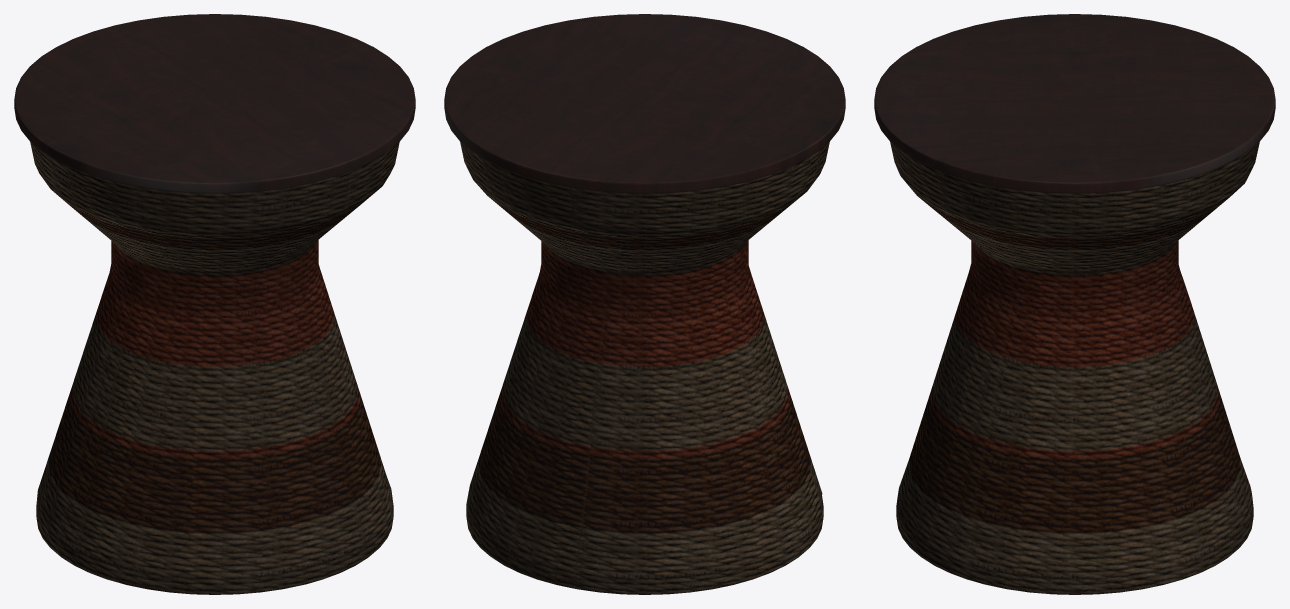
The model's file is raw_model.obj.
The picture shows the model from 3 angles, left to right: view 1: azimuth 30°, elevation 25°; view 2: azimuth 150°, elevation 25°; view 3: azimuth 270°, elevation 25°; orthographic projection.
Parts seen in each view (by area): view 1: solid_002, solid_001; view 2: solid_002, solid_001; view 3: solid_002, solid_001.
Boxes of the visible parts, x1,y1,x2,y2 form: solid_002: [30, 142, 399, 594]; solid_001: [14, 14, 415, 193]; solid_002: [460, 142, 829, 594]; solid_001: [444, 14, 845, 193]; solid_002: [890, 142, 1259, 594]; solid_001: [874, 14, 1275, 193].
Size of the model in its own units: 0.5209 by 0.6042 by 0.5209.
Materials: 1 (1 with a texture image).
